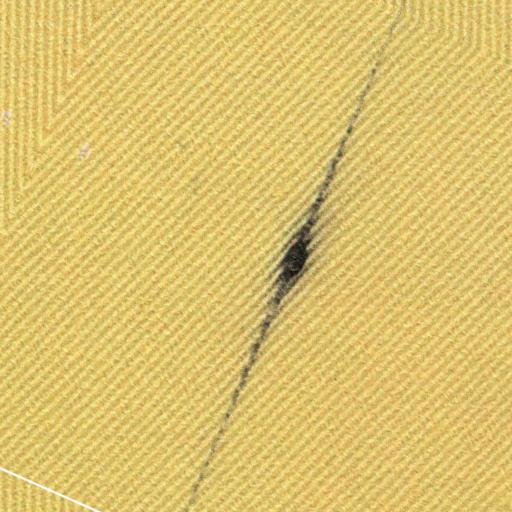stain: (182, 10, 412, 512)
